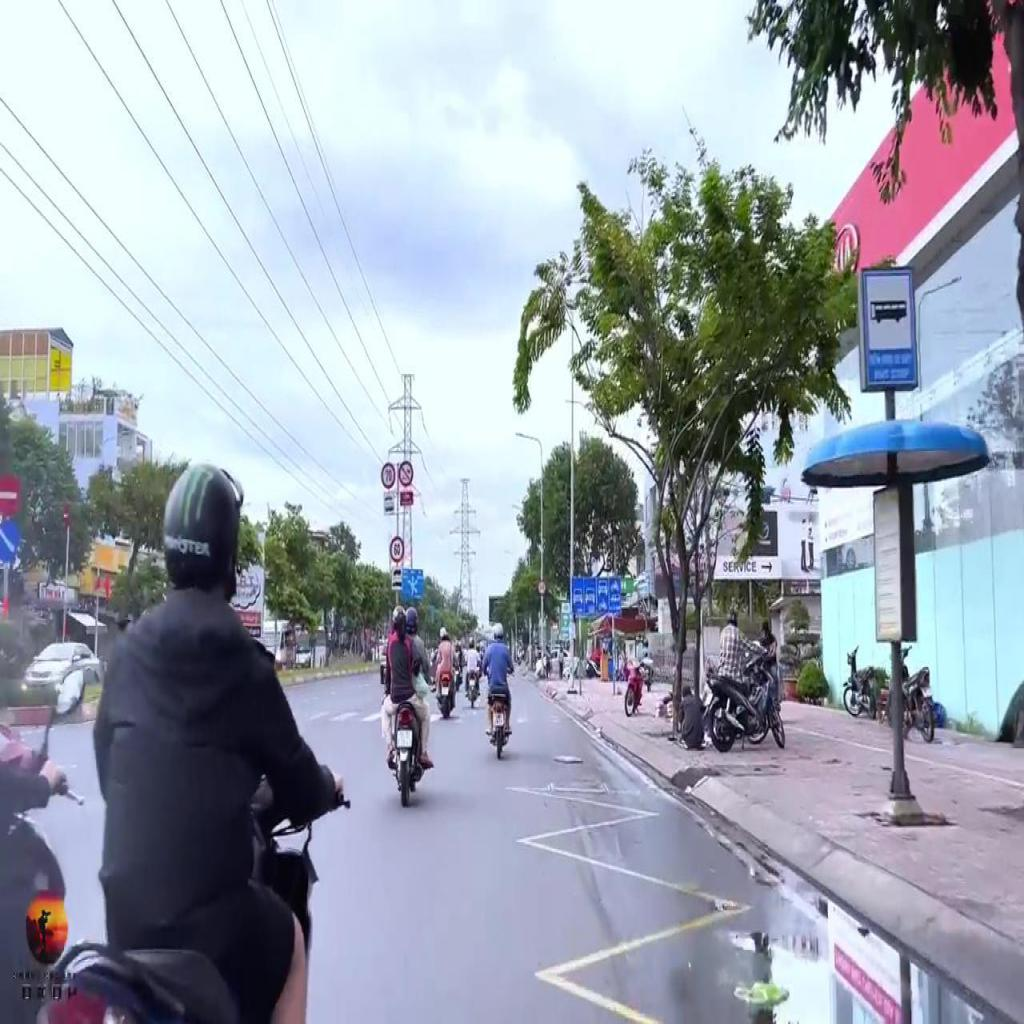cam_xe_2_banh_va_xe_3_banh_co_dong_co: (398, 461, 413, 486)
khac: (860, 270, 918, 388), (401, 569, 422, 600), (381, 462, 395, 489), (384, 504, 394, 516), (392, 577, 402, 589), (384, 491, 394, 502), (392, 568, 402, 578)
lan_duong_cho_tung_xe_theo_vach_ke_duong: (572, 577, 622, 616)
toc_do_toi_da_60: (390, 536, 405, 562)
